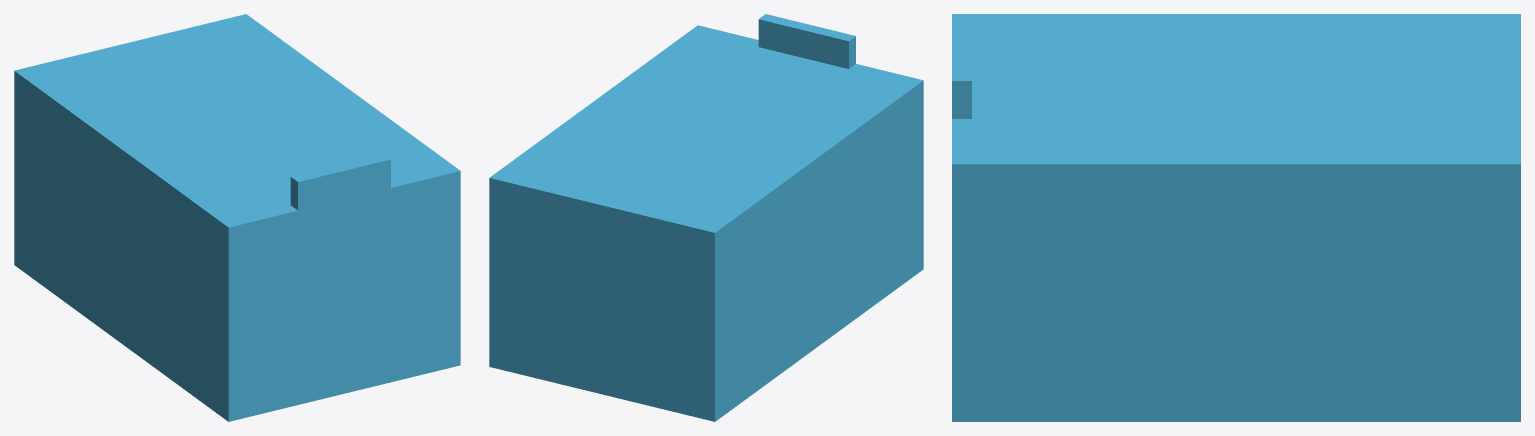
The model's file is general_shop_2.glb.
3 renders of one model, left to right at view 1: azimuth 30°, elevation 25°; view 2: azimuth 150°, elevation 25°; view 3: azimuth 270°, elevation 25°, orthographic. The views are drawn at different scales.
Visible parts, largest first — view 1: general_shop_2-col; view 2: general_shop_2-col; view 3: general_shop_2-col.
Part boxes in pixels (<box>): general_shop_2-col: <box>14,14,460,421</box>; general_shop_2-col: <box>489,14,923,421</box>; general_shop_2-col: <box>952,14,1520,421</box>.
Size of the model in its own units: 5 by 4.59 by 8.
